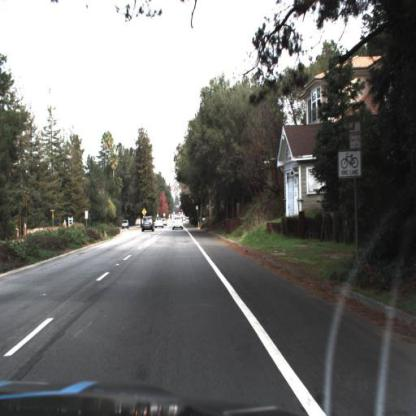car: (140, 214, 158, 237), (170, 213, 186, 234), (154, 213, 166, 232), (121, 216, 132, 234)
